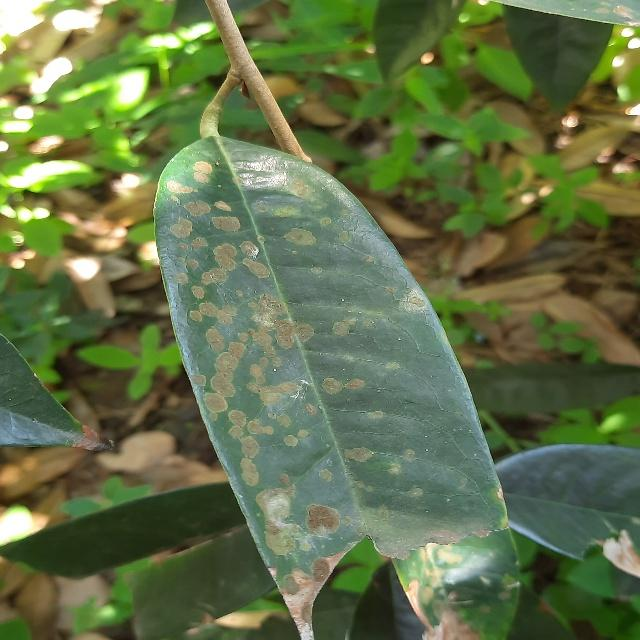Algal Leaf Spot: (141, 133, 514, 640)
